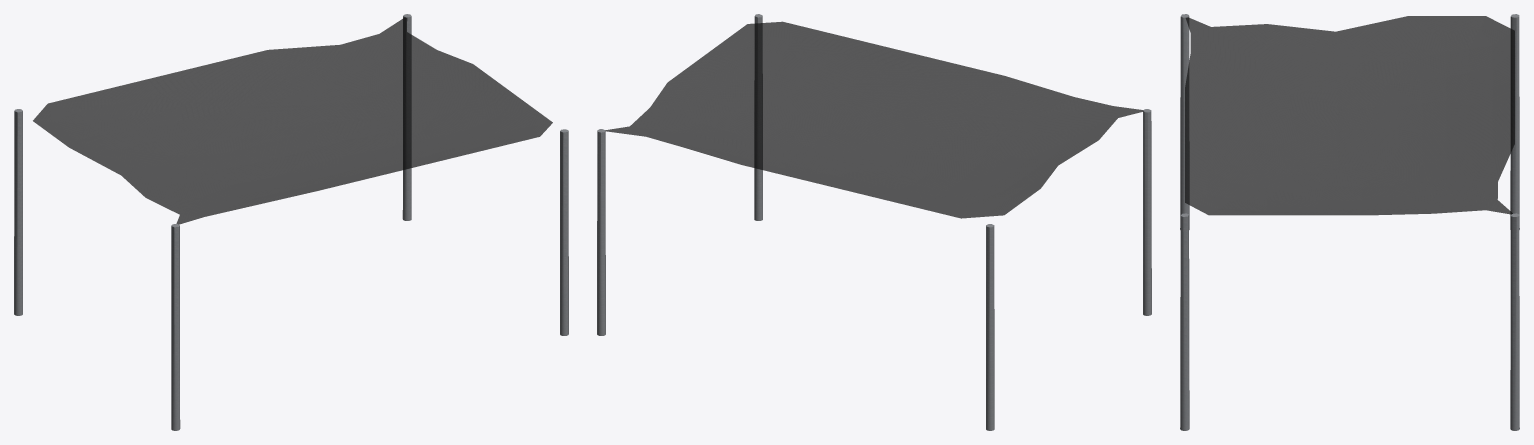
The model's file is TelemSmallReshetTzel_LOD2.gltf.
3 renders of one model, left to right at view 1: azimuth 30°, elevation 25°; view 2: azimuth 150°, elevation 25°; view 3: azimuth 270°, elevation 25°, orthographic. The views are drawn at different scales.
Visible parts, largest first — view 1: node6, node5; view 2: node6, node5; view 3: node6, node5.
Boxes of the visible parts, x1,y1,x2,y2 form: node6: (33, 17, 552, 224); node5: (14, 14, 568, 430); node6: (605, 21, 1143, 218); node5: (597, 14, 1151, 430); node6: (1185, 16, 1514, 215); node5: (1180, 14, 1519, 430).
Bounding box in the file's own units: 5.1 × 2.5 × 3.6.
